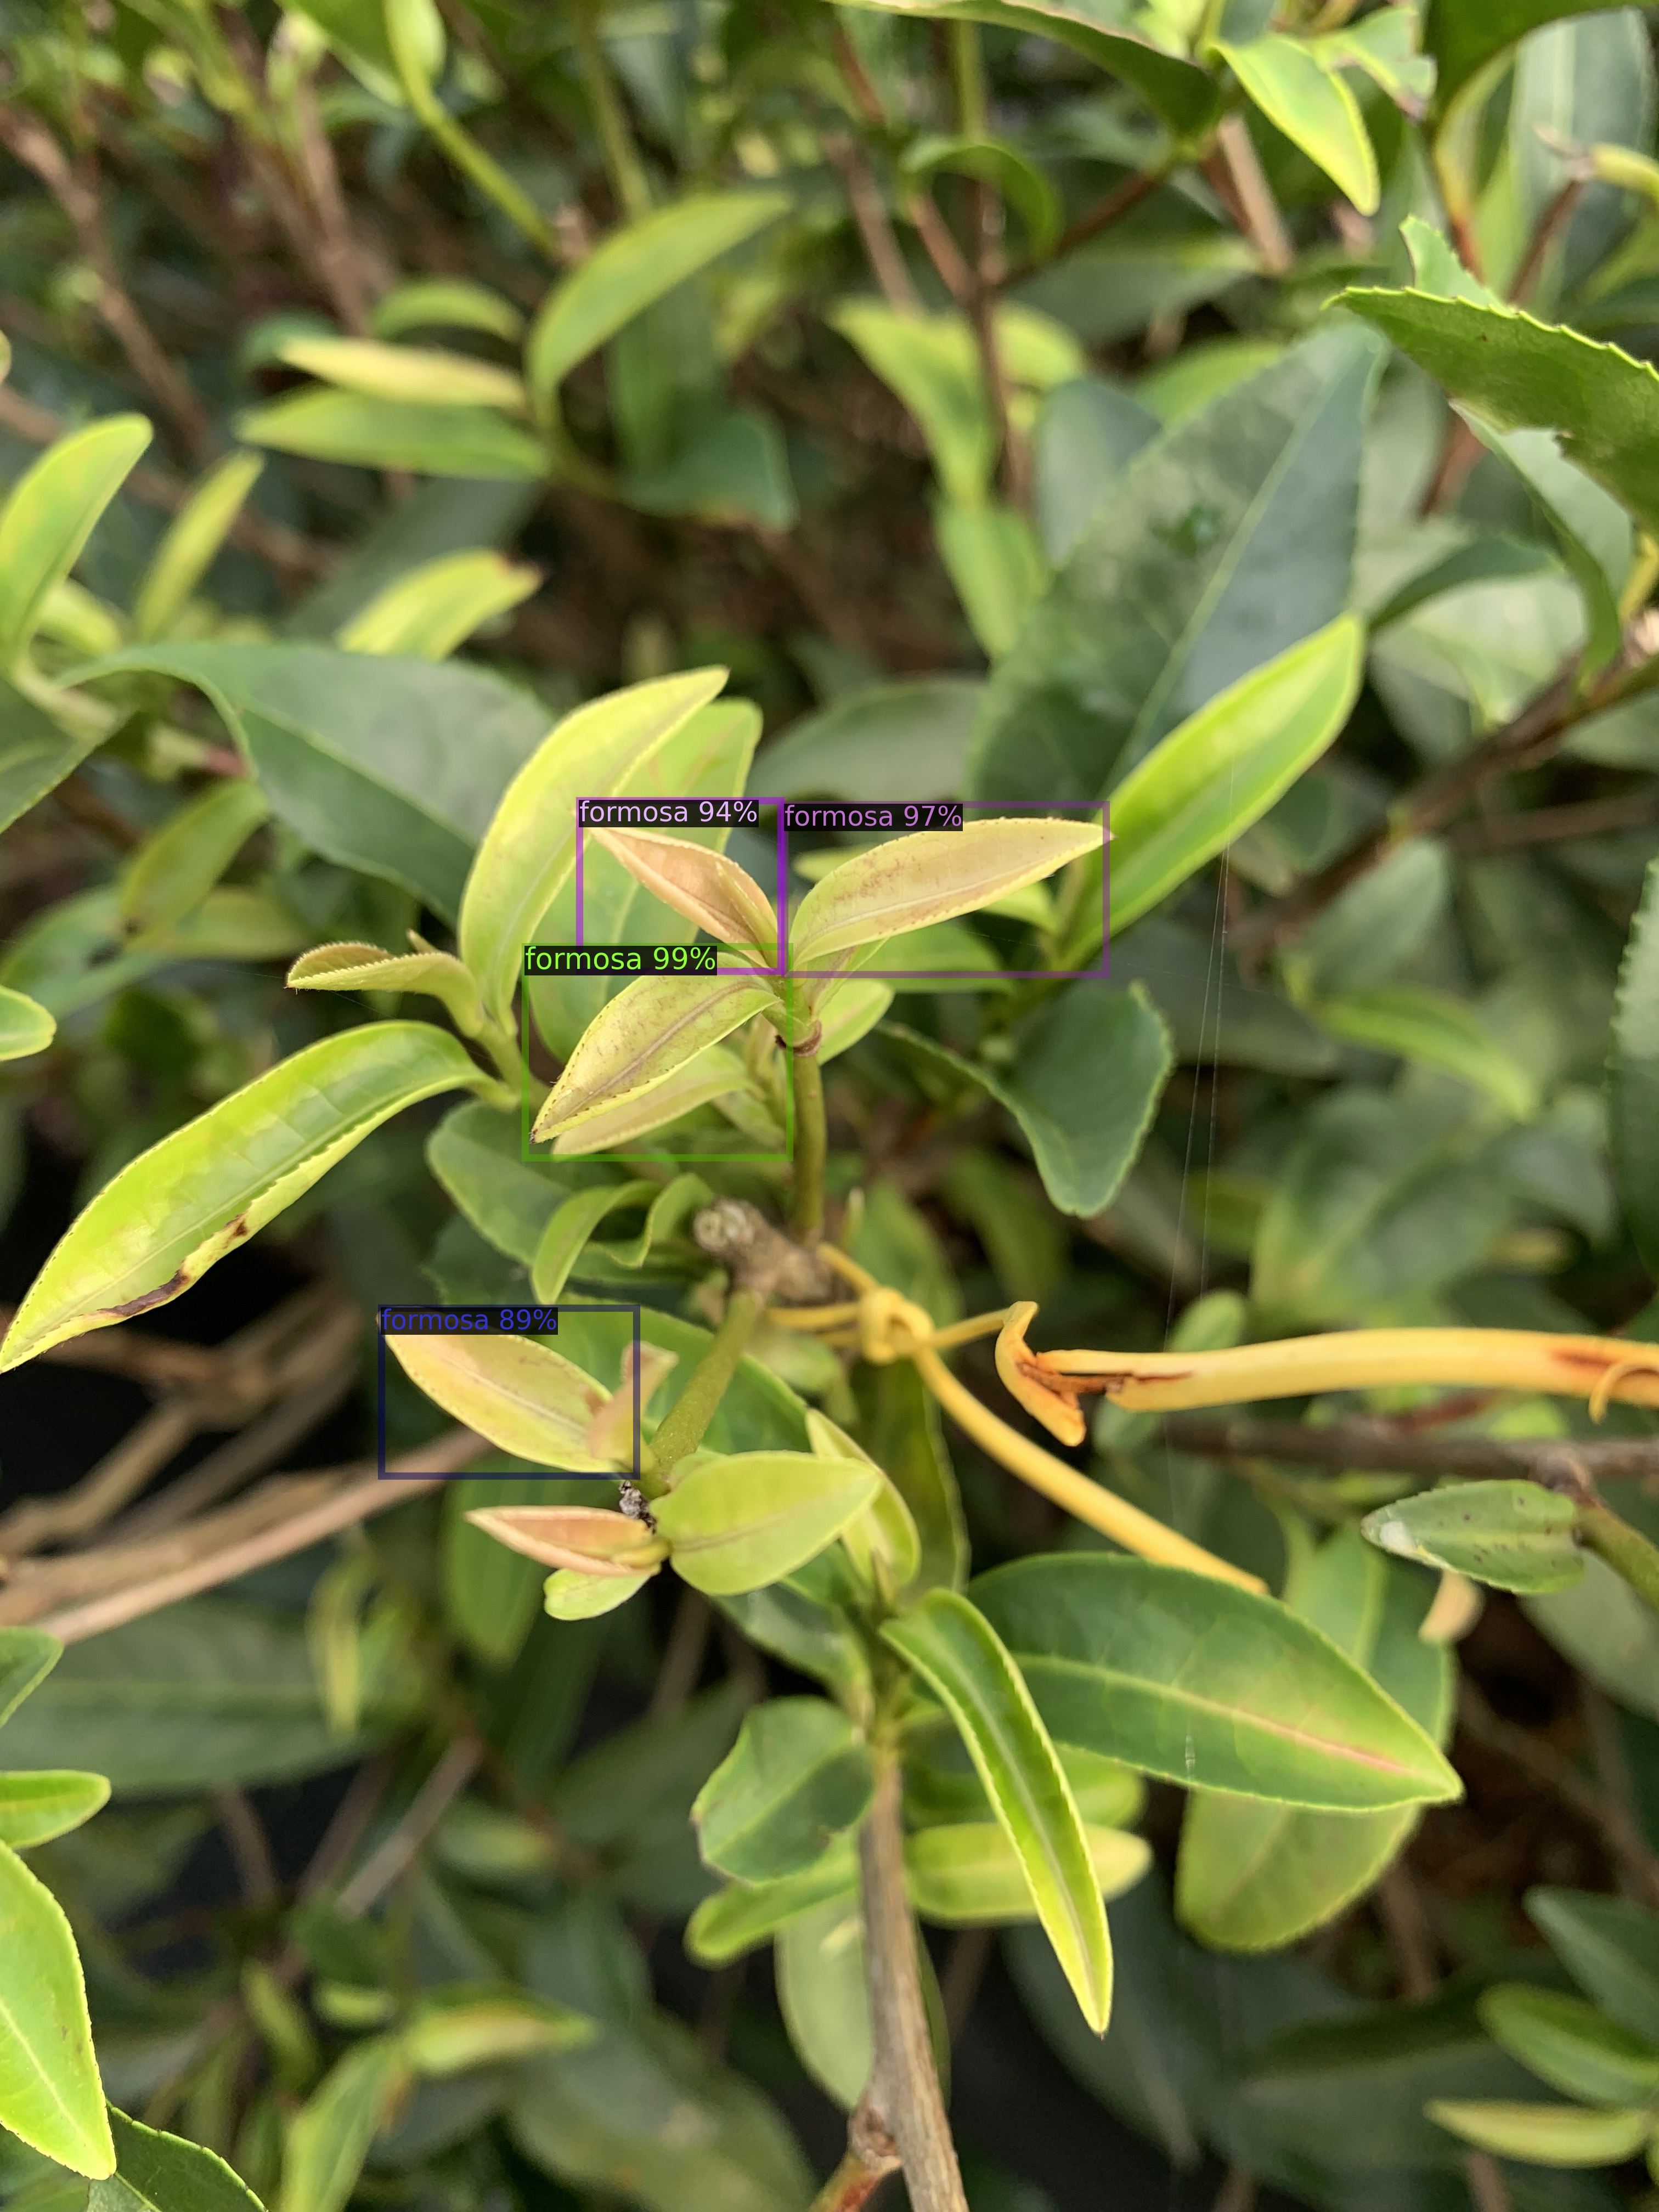formosa: (525, 946, 789, 1158), (784, 805, 1107, 974), (380, 1308, 636, 1475), (579, 799, 781, 970)
